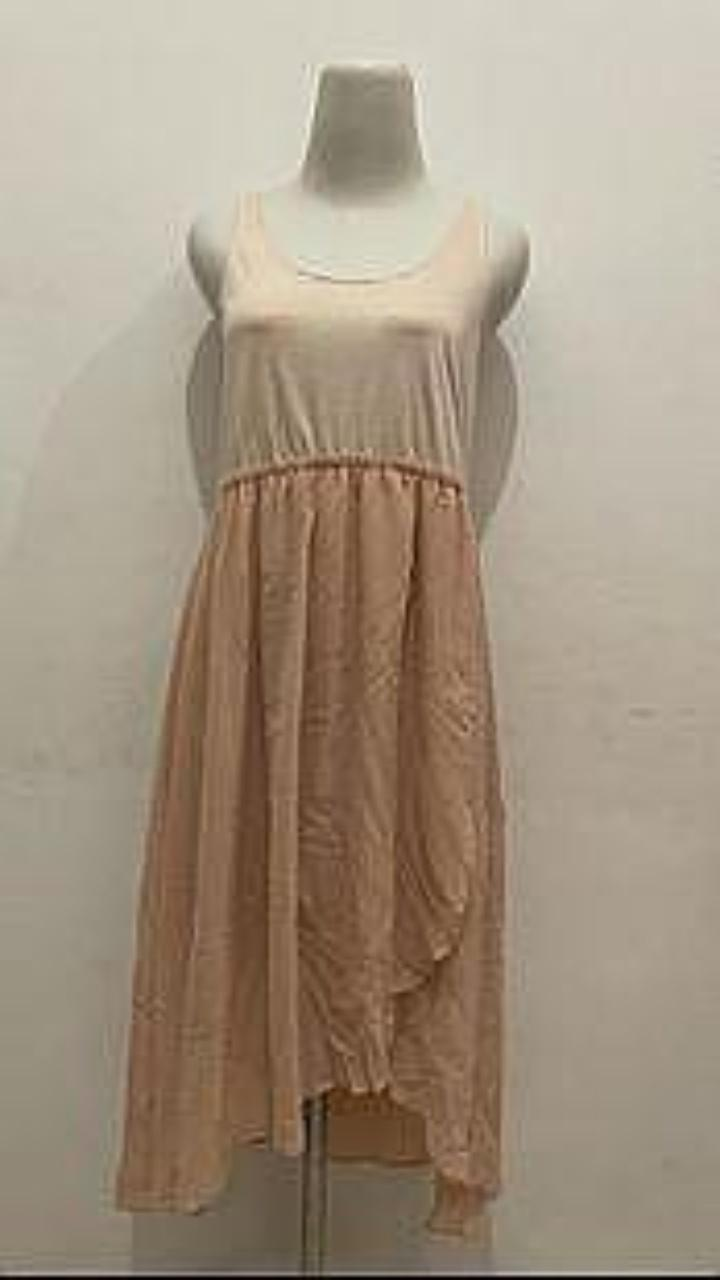Dresses: (117, 193, 503, 1232)
